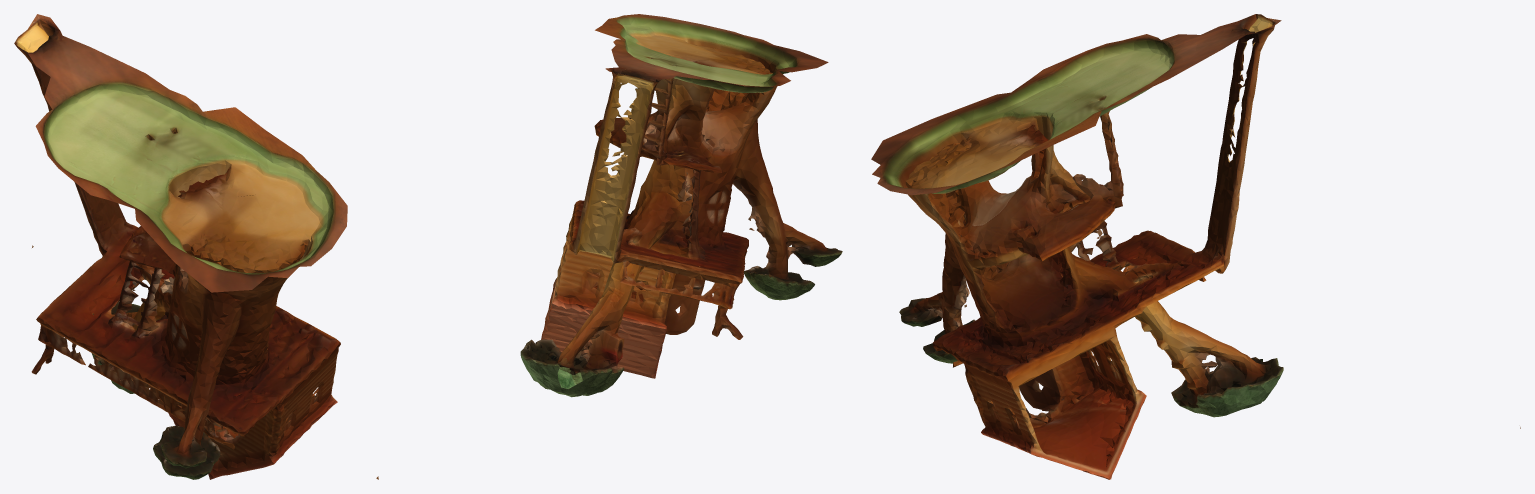
Rendered from tree_house_lowModel_decimated_75p_20k_faces.fbx.
3 views of the same model, side by side, from view 1: azimuth 30°, elevation 25°; view 2: azimuth 150°, elevation 25°; view 3: azimuth 270°, elevation 25° (orthographic).
Visible parts, largest first — view 1: Model; view 2: Model; view 3: Model.
Part boxes in pixels (x1,y1,x2,y2): Model: [14, 14, 347, 479]; Model: [376, 14, 842, 479]; Model: [871, 14, 1520, 479].
Bounding box in the file's own units: 2.09 × 3.16 × 4.57.
